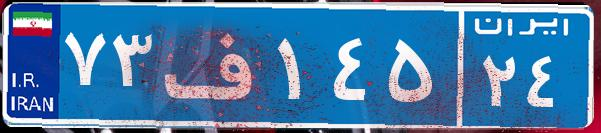1: (273, 28, 330, 110)
2: (475, 38, 525, 113)
3: (110, 28, 158, 105)
4: (330, 28, 385, 110), (525, 38, 570, 115)
5: (385, 28, 445, 110)
7: (57, 26, 110, 107)
ف: (158, 15, 273, 115)
